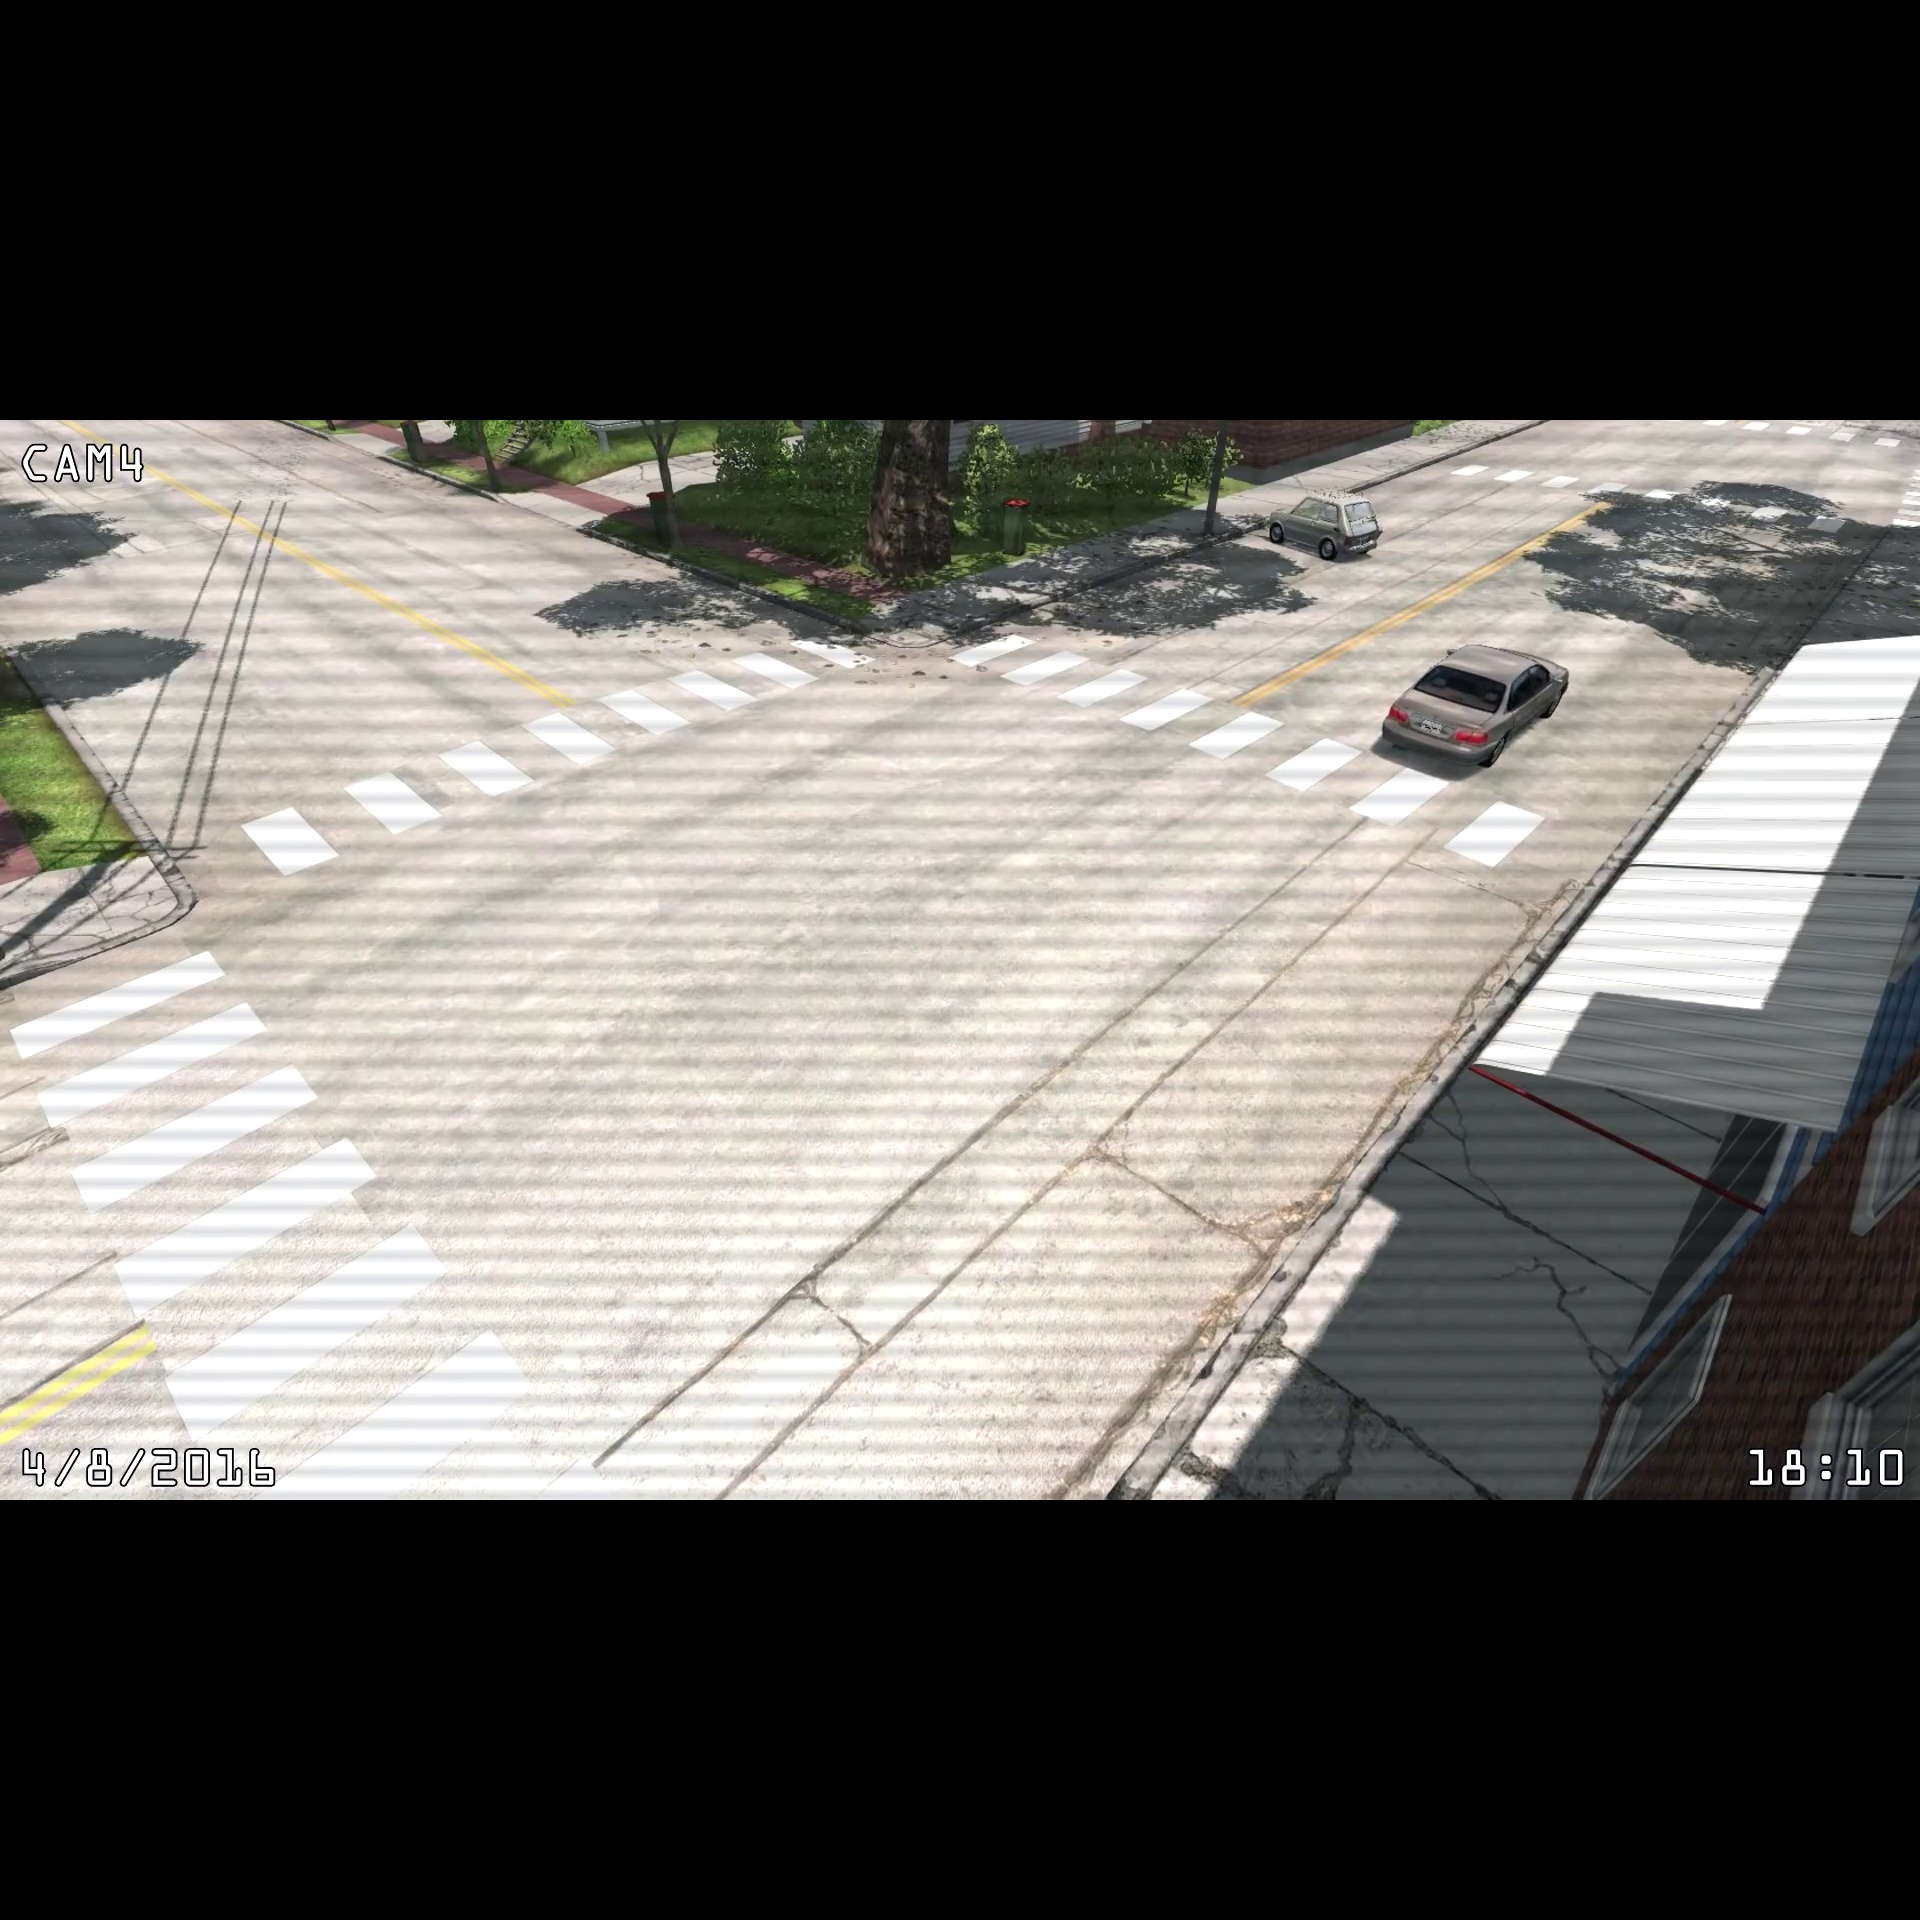vehicle: (1378, 638, 1577, 777), (1264, 489, 1387, 564)
